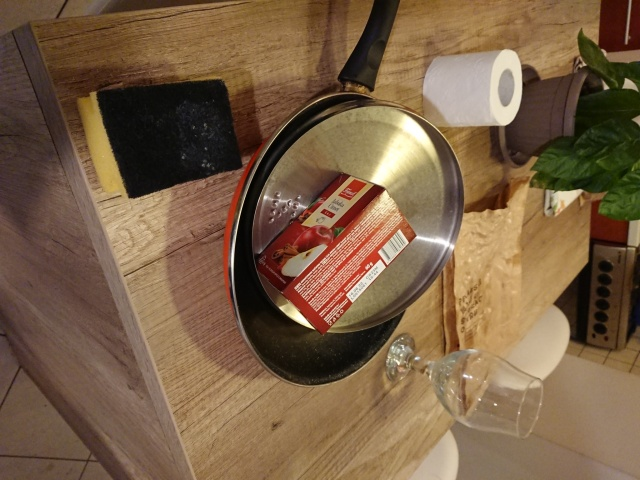Franck Apple Cinnamon Tea 60g: (251, 169, 420, 337)
